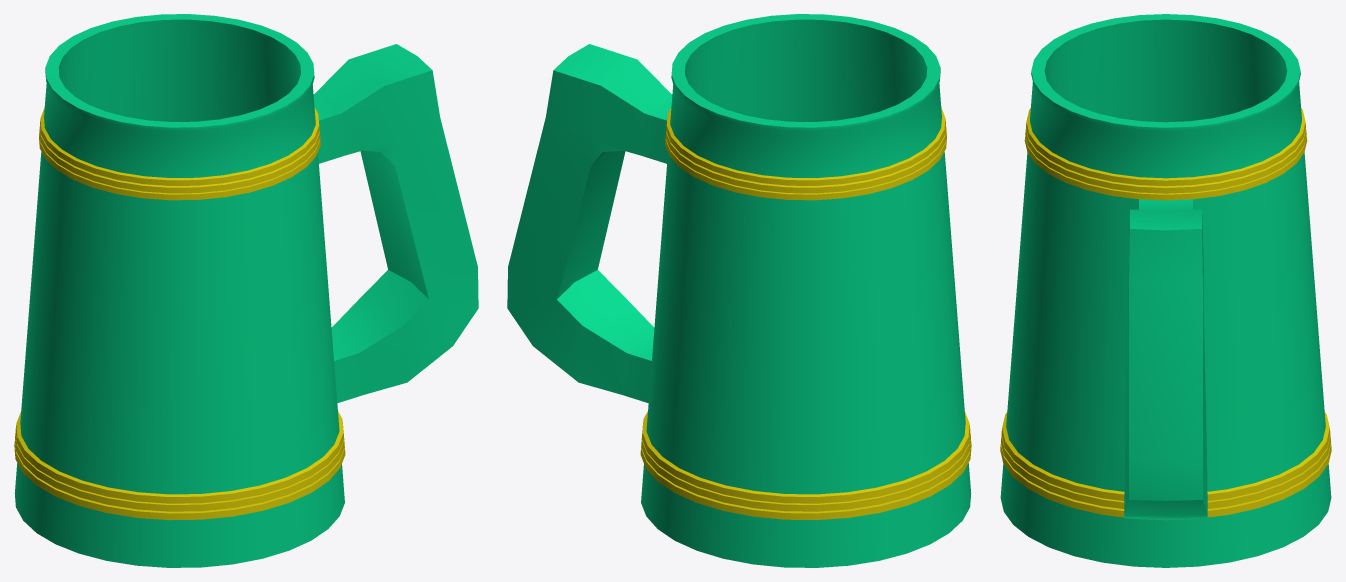
File: beerMug.fbx
3 renders of one model, left to right at view 1: azimuth 30°, elevation 25°; view 2: azimuth 150°, elevation 25°; view 3: azimuth 270°, elevation 25°, orthographic.
Visible parts, largest first — view 1: Cylinder; view 2: Cylinder; view 3: Cylinder.
Part boxes in pixels (<box>): Cylinder: <box>14,14,478,567</box>; Cylinder: <box>507,14,971,567</box>; Cylinder: <box>1000,14,1331,567</box>.
Bounding box in the file's own units: 30.4 × 29.07 × 20.46.
